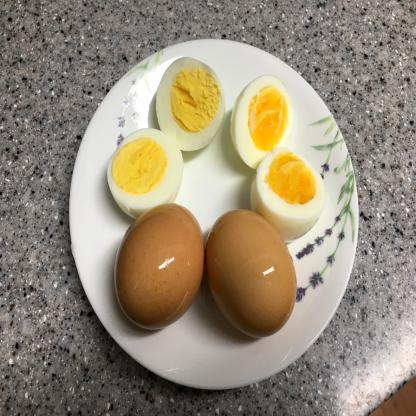egg: (185, 186, 311, 348), (105, 193, 211, 337)
